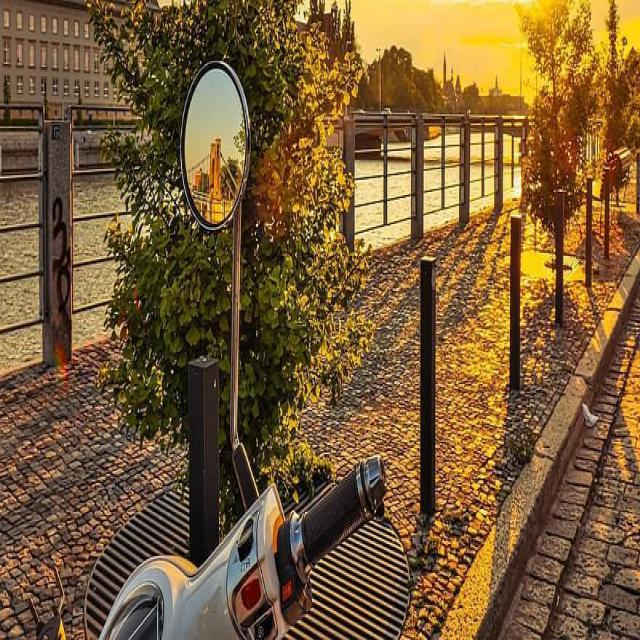other: (492, 30, 558, 290), (211, 188, 234, 225)
